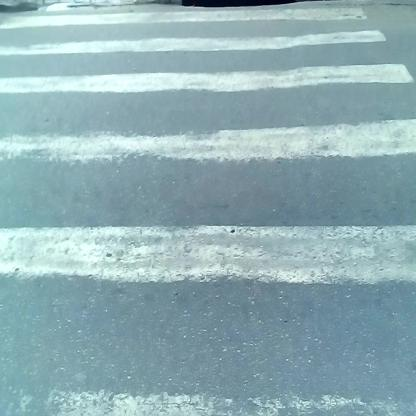crosswalk: (4, 15, 413, 406)
